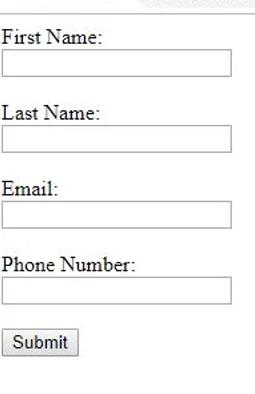button: (1, 327, 81, 358)
field: (1, 124, 234, 155), (1, 199, 234, 230), (1, 48, 233, 78), (1, 276, 233, 306)
field_with_label: (0, 27, 235, 81), (0, 104, 236, 157), (0, 179, 235, 232), (0, 254, 235, 307)
